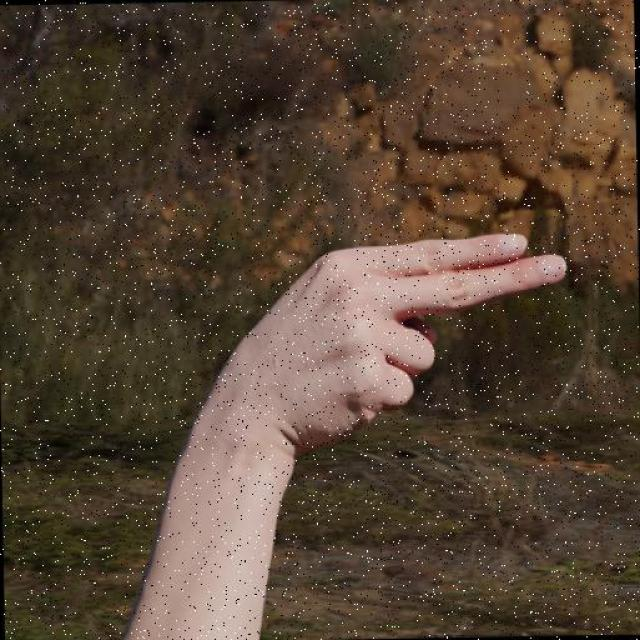H: (195, 226, 583, 459)
